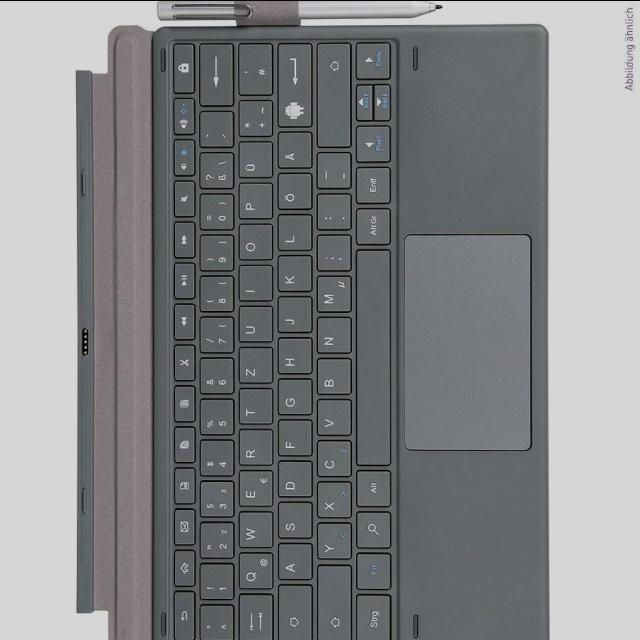0: (196, 195, 232, 233)
1: (195, 565, 231, 603)
2: (196, 523, 232, 562)
3: (196, 482, 232, 521)
4: (196, 442, 232, 480)
5: (196, 400, 232, 438)
6: (196, 359, 232, 397)
7: (196, 318, 232, 356)
8: (196, 278, 232, 316)
9: (196, 236, 232, 274)
a: (274, 545, 310, 583)
accent: (195, 113, 231, 151)
ae: (274, 134, 310, 172)
alt-left: (353, 472, 389, 510)
altgr-right: (353, 209, 389, 247)
b: (312, 359, 350, 399)
c: (313, 442, 349, 480)
caret: (195, 607, 231, 640)
comma: (313, 237, 349, 275)
d: (274, 463, 310, 501)
del: (196, 44, 232, 110)
e: (235, 472, 271, 510)
enter: (274, 43, 310, 131)
f: (274, 422, 310, 460)
g: (274, 381, 310, 419)
h: (274, 340, 310, 378)
hash: (234, 44, 270, 99)
i: (234, 267, 270, 305)
j: (274, 299, 310, 335)
k: (274, 257, 310, 295)
keyboard: (155, 30, 403, 640)
l: (274, 216, 310, 254)
m: (312, 277, 350, 317)
minus: (313, 154, 349, 192)
n: (313, 319, 349, 357)
o: (234, 226, 270, 264)
oe: (274, 175, 310, 213)
p: (234, 185, 270, 223)
plus: (234, 102, 270, 140)
point: (313, 195, 349, 233)
q: (235, 554, 271, 593)
r: (235, 431, 271, 469)
s: (274, 504, 310, 542)
shift-left: (312, 566, 350, 640)
shift-lock: (274, 586, 310, 640)
shift-right: (313, 43, 349, 151)
space: (351, 252, 389, 469)
ss: (196, 154, 232, 194)
strg-left: (352, 594, 390, 640)
t: (235, 391, 271, 427)
tab: (234, 595, 272, 640)
u: (235, 308, 271, 346)
ue: (234, 144, 270, 182)
v: (312, 401, 350, 439)
w: (235, 513, 271, 551)
x: (313, 483, 349, 521)
y: (313, 524, 349, 562)
z: (235, 349, 271, 387)
